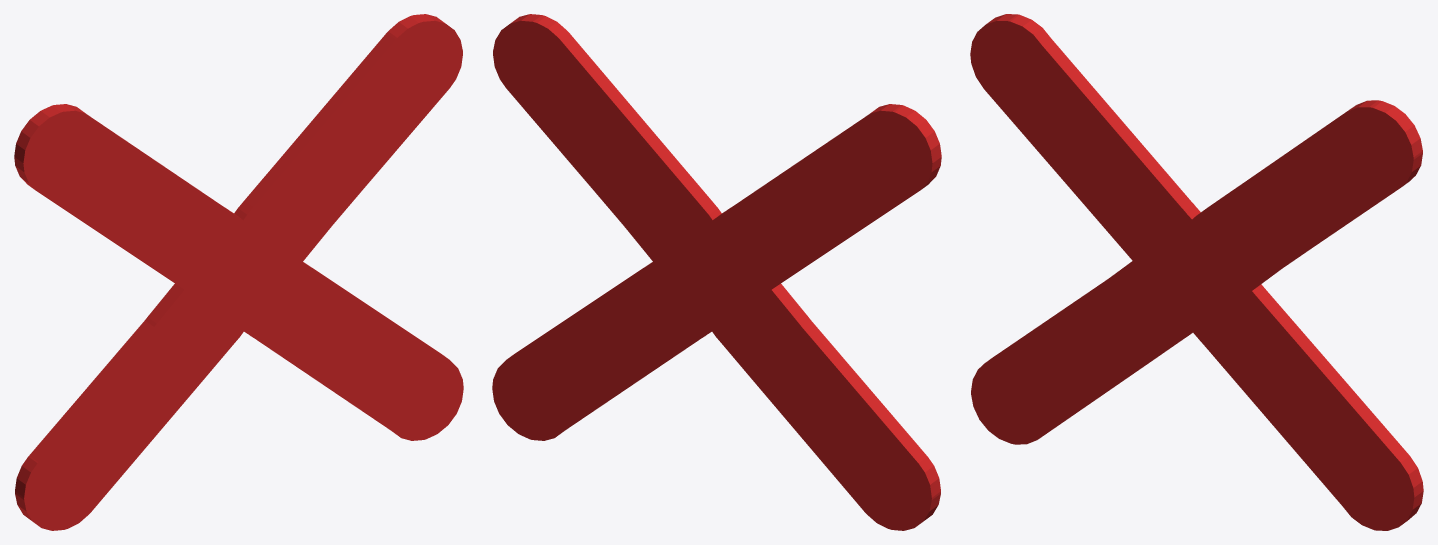
Rendered from converted_link2_11_d12626ff.obj.
The picture shows the model from 3 angles, left to right: view 1: azimuth 30°, elevation 25°; view 2: azimuth 150°, elevation 25°; view 3: azimuth 330°, elevation 25°; orthographic projection.
Bounding box in the file's own units: 0.00275 × 0.00251 × 0.0001.
